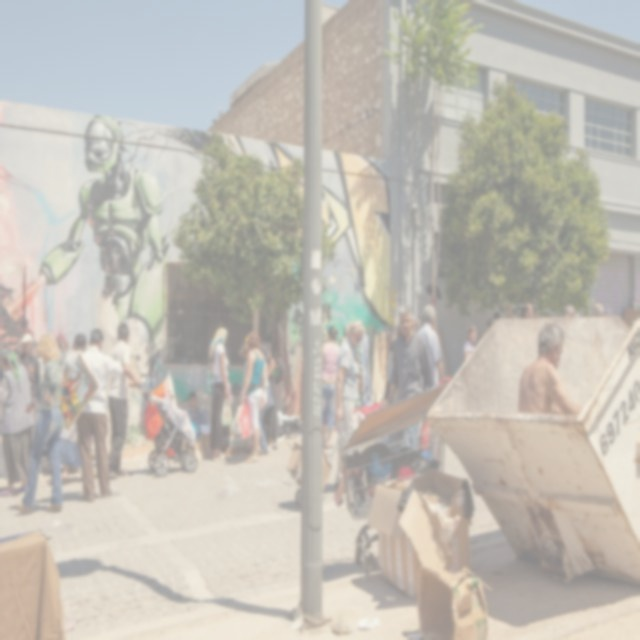pessoa: (37, 110, 166, 318), (14, 332, 64, 516), (72, 327, 124, 502), (518, 320, 584, 416), (104, 320, 140, 480), (332, 318, 364, 494), (0, 346, 36, 498), (386, 303, 436, 407), (416, 304, 446, 462), (482, 300, 604, 334), (243, 340, 278, 450), (206, 326, 234, 462), (240, 329, 267, 464), (240, 340, 270, 456), (317, 324, 342, 451), (172, 296, 216, 366), (17, 333, 42, 426), (46, 328, 85, 377), (162, 390, 190, 440), (61, 332, 88, 380), (464, 322, 478, 360), (186, 392, 201, 424), (340, 316, 356, 339), (412, 317, 422, 333)
